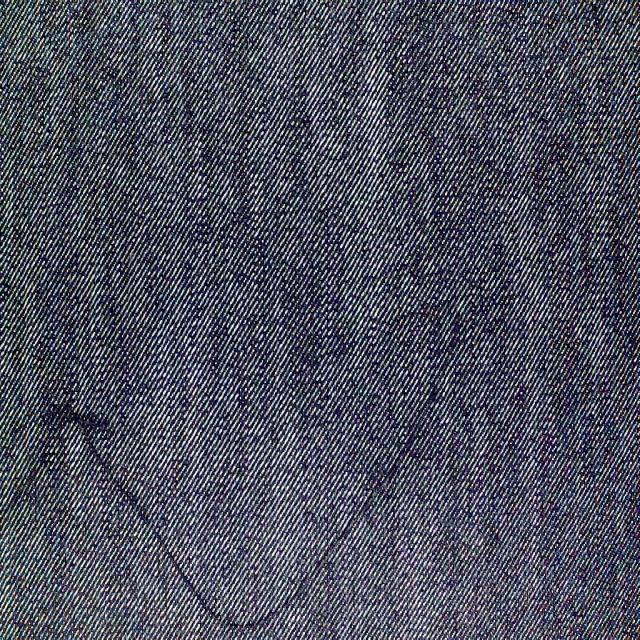defect: (10, 310, 483, 630)
